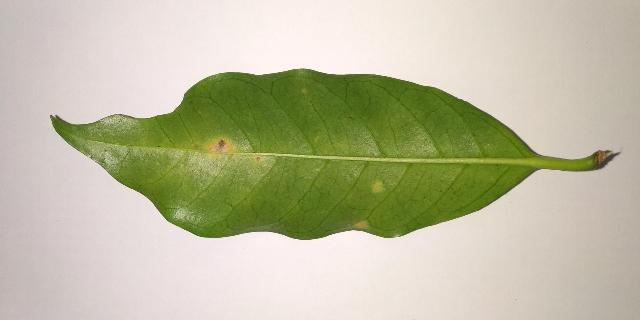miner: (205, 138, 237, 156), (354, 220, 370, 230), (372, 182, 382, 191), (254, 155, 263, 163)
